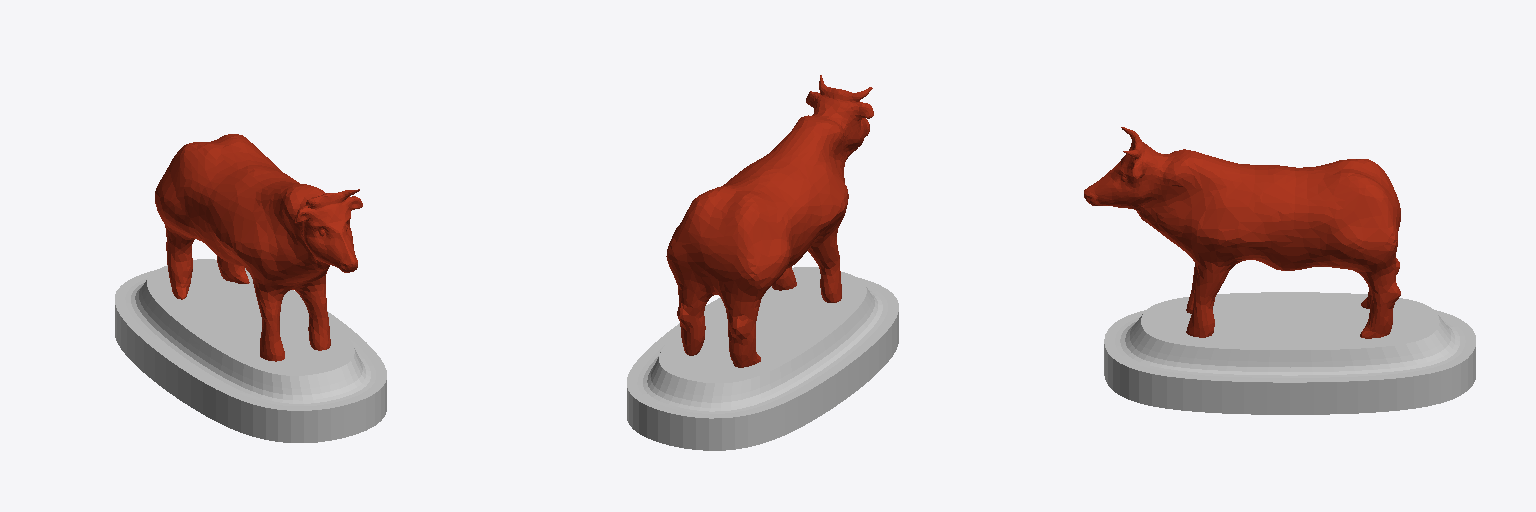
3 renders of one model, left to right at view 1: azimuth 30°, elevation 25°; view 2: azimuth 150°, elevation 25°; view 3: azimuth 270°, elevation 25°, orthographic.
Parts seen in each view (by area): view 1: Plane, Sphere; view 2: Plane, Sphere; view 3: Plane, Sphere.
Boxes of the visible parts, box(x1,y1,x2,y2) form: Plane: box(115, 259, 386, 442); Sphere: box(155, 134, 362, 361); Plane: box(627, 267, 898, 450); Sphere: box(666, 75, 873, 367); Plane: box(1104, 292, 1475, 414); Sphere: box(1084, 127, 1400, 338).
Bounding box in the file's own units: 0.1043 × 0.1385 × 0.2096.
Materials: 2 (1 with a texture image).